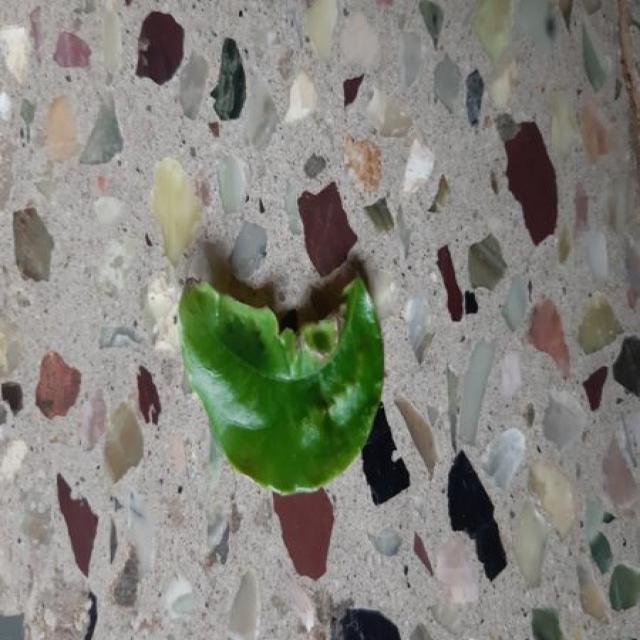amla: (180, 279, 383, 494)
defectedamla: (267, 278, 383, 396)
disease in leaf: (180, 279, 383, 446)
